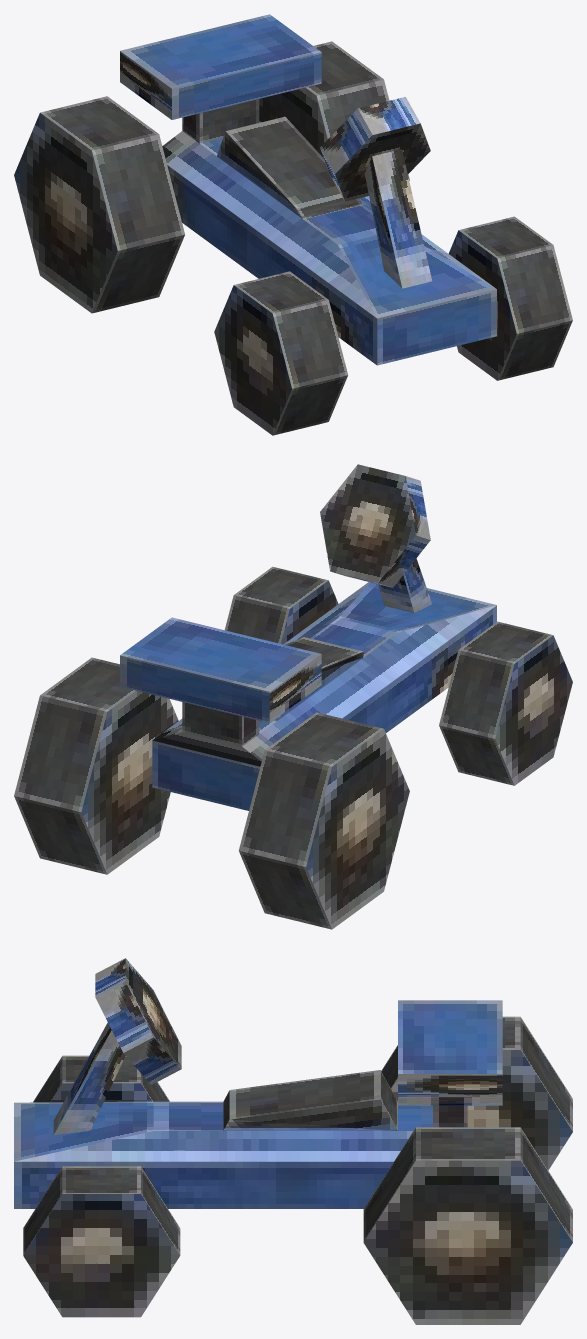
The picture shows the model from 3 angles, top to bottom: view 1: azimuth 30°, elevation 25°; view 2: azimuth 150°, elevation 25°; view 3: azimuth 270°, elevation 25°; orthographic projection.
Visible parts, largest first — view 1: Asset3DLoadersceneRoot; view 2: Asset3DLoadersceneRoot; view 3: Asset3DLoadersceneRoot.
Boxes of the visible parts, bbox=[...] form: Asset3DLoadersceneRoot: bbox=[14, 14, 572, 435]; Asset3DLoadersceneRoot: bbox=[14, 464, 572, 929]; Asset3DLoadersceneRoot: bbox=[14, 958, 572, 1324].
Size of the model in its own units: 1.52 by 1.4 by 2.5.
Materials: 1 (1 with a texture image).
